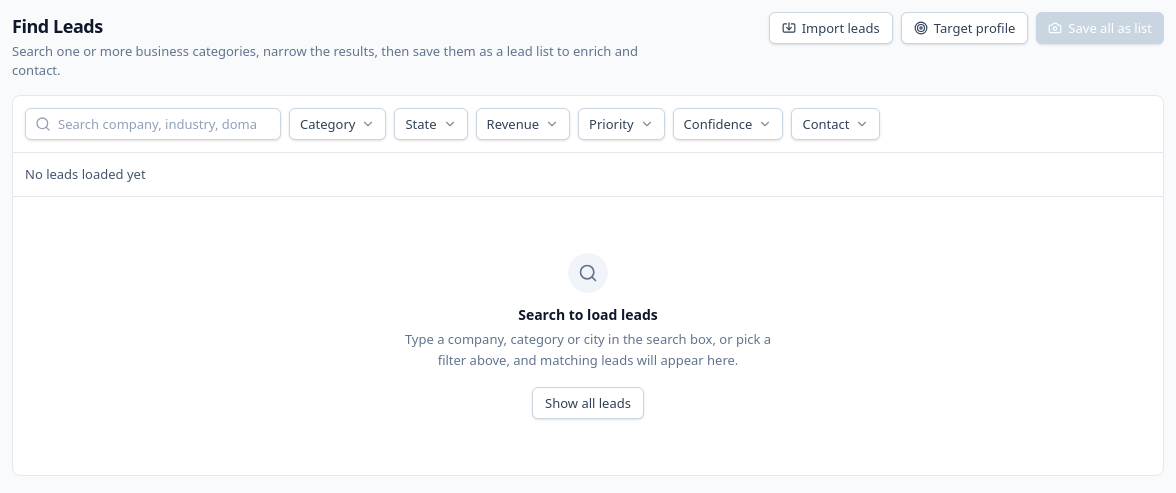
Test: FindLeadsPage › "Show all leads" loads everything without a filter
What coordinates should you click on to do the following:
click the button "Show all leads"
I would click on:
 (588, 403)
Its box is x1=532 y1=387 x2=644 y2=419.
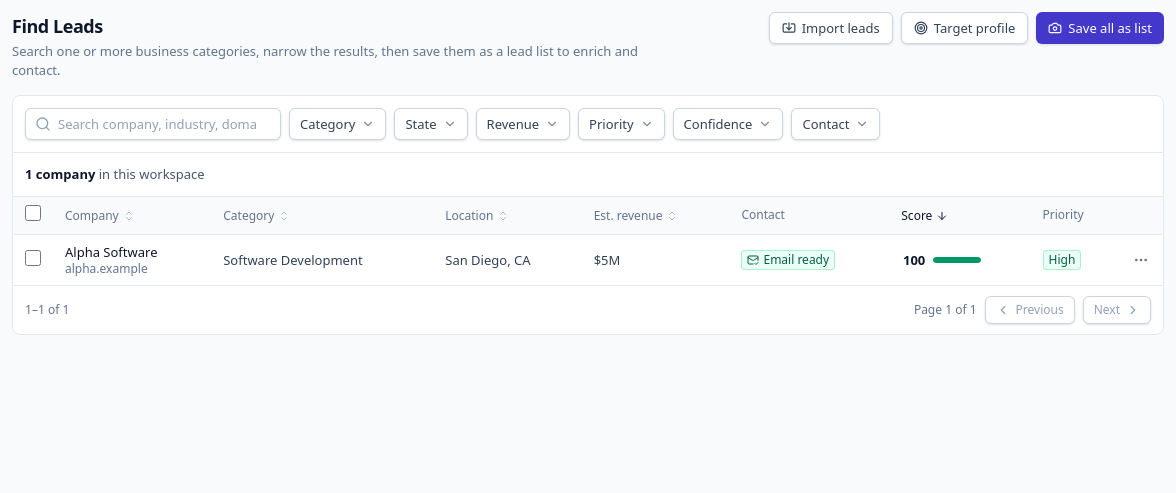
Result: the text "1 company" is shown at x1=25 y1=165 x2=95 y2=183
